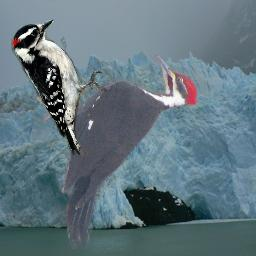Woodpecker: (34, 55, 201, 249), (11, 19, 110, 155)
